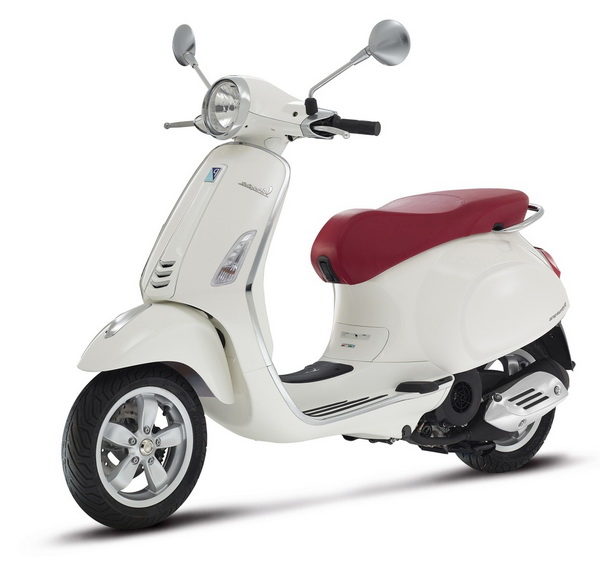motorcycle: (59, 66, 573, 530)
